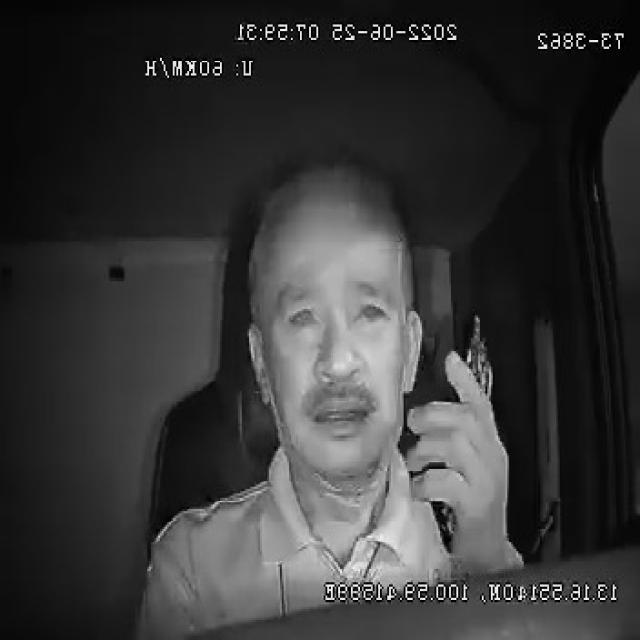phone: (430, 313, 495, 557)
